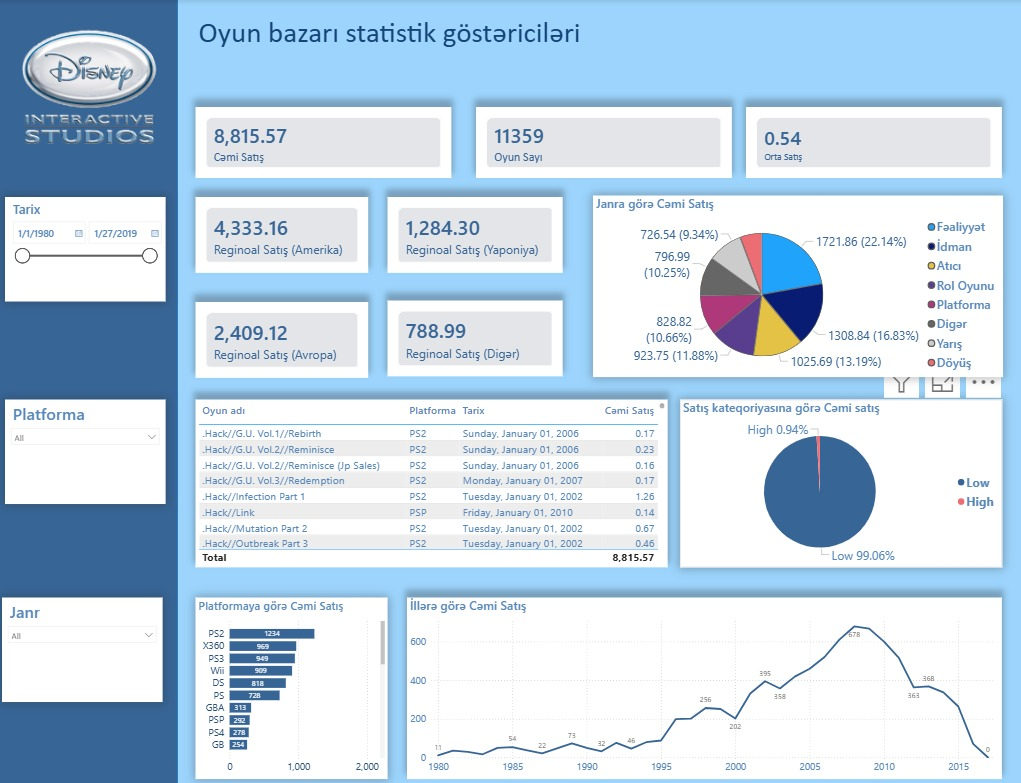

What the dashboard file says about the page in this screenshot:
{"tool":"powerbi","page":{"name":"PAGE 1","canvas":[1700,1300],"ordinal":0},"visuals":[{"type":"shape","box":[0,0,295,1300],"z":0},{"type":"lineChart","title":"İllərə görə Cəmi Satış","fields":{"Category":["Sheet 2.Tarix.Variation.Date Hierarchy.Year","Sheet 2.Tarix.Variation.Date Hierarchy.Quarter","Sheet 2.Tarix.Variation.Date Hierarchy.Month","Sheet 2.Tarix.Variation.Date Hierarchy.Day"],"Y":["Sheet 2.Cəmi Satış"]},"box":[675,987.5,982.5,300],"z":1000},{"type":"barChart","title":"Platformaya görə Cəmi Satış","fields":{"Category":["Sheet 2.Platforma"],"Y":["Sheet 2.Cəmi Satış"]},"box":[325,987.5,317.5,300],"z":2000},{"type":"pieChart","title":"Satış kateqoriyasına görə Cəmi satış","fields":{"Category":["Sheet 2.Satış kateqoriyası"],"Y":["Sheet 2.Cəmi Satış"]},"box":[1125,662.5,532.5,277.5],"z":3000},{"type":"pieChart","title":"Janra görə Cəmi Satış","fields":{"Category":["Sheet 2.Janr"],"Y":["Sheet 2.Cəmi Satış"]},"box":[980,325,677.5,300],"z":4000},{"type":"tableEx","fields":{"Values":["Sheet 2.Oyun adı","Sheet 2.Platforma","Sheet 2.Tarix","Sheet 2.Cəmi Satış"]},"box":[325,662.5,780,277.5],"z":5000},{"type":"slicer","fields":{"Values":["Sheet 2.Tarix"]},"box":[10,327.5,265,172.5],"z":6000},{"type":"cardVisual","fields":{"Data":["Sheet 2.Reginoal Satış (Yaponiya)"]},"box":[642,327.4,289,125.3],"z":7000},{"type":"cardVisual","fields":{"Data":["Sheet 2.Cəmi Satış"]},"box":[325,177.5,422.5,117.5],"z":8000},{"type":"textbox","box":[325,20,747.5,127.5],"z":9000},{"type":"cardVisual","fields":{"Data":["Sheet 2.Reginoal Satış (Amerika)"]},"box":[325,327.5,285,125],"z":10000},{"type":"cardVisual","fields":{"Data":["Sheet 2.Reginoal Satış (Avropa)"]},"box":[325,500,285,125],"z":11000},{"type":"cardVisual","fields":{"Data":["Sheet 2.Reginoal Satış (Digər)"]},"box":[642,498.8,289,125.3],"z":12000},{"type":"image","box":[25,0,250,295],"z":13000},{"type":"slicer","fields":{"Values":["Sheet 2.Janr"]},"box":[5,987.5,265,172.5],"z":14000},{"type":"cardVisual","fields":{"Data":["Sheet 2.Oyun Sayı"]},"box":[787.5,177.5,422.5,117.5],"z":15000},{"type":"cardVisual","fields":{"Data":["Sheet 2.Orta Satış"]},"box":[1235,177.5,422.5,117.5],"z":16000},{"type":"slicer","fields":{"Values":["Sheet 2.Platforma"]},"box":[10,662.5,265,172.5],"z":17000}]}

Visuals, with their boxes in screenshot pixels (x1, y1, x2, y2), scaled from the page's 1700x1300 canvas onto the 1021x783 screenshot:
shape: locate(0, 0, 177, 782)
"İllərə görə Cəmi Satış" lineChart: locate(405, 595, 995, 775)
"Platformaya görə Cəmi Satış" barChart: locate(195, 595, 386, 775)
"Satış kateqoriyasına görə Cəmi satış" pieChart: locate(676, 399, 995, 566)
"Janra görə Cəmi Satış" pieChart: locate(589, 196, 995, 376)
tableEx - Sheet 2.Oyun adı x Sheet 2.Platforma: locate(195, 399, 664, 566)
slicer - Sheet 2.Tarix: locate(6, 197, 165, 301)
cardVisual - Sheet 2.Reginoal Satış (Yaponiya): locate(386, 197, 559, 273)
cardVisual - Sheet 2.Cəmi Satış: locate(195, 107, 449, 178)
textbox: locate(195, 12, 644, 89)
cardVisual - Sheet 2.Reginoal Satış (Amerika): locate(195, 197, 366, 273)
cardVisual - Sheet 2.Reginoal Satış (Avropa): locate(195, 301, 366, 376)
cardVisual - Sheet 2.Reginoal Satış (Digər): locate(386, 300, 559, 376)
image: locate(15, 0, 165, 178)
slicer - Sheet 2.Janr: locate(3, 595, 162, 699)
cardVisual - Sheet 2.Oyun Sayı: locate(473, 107, 727, 178)
cardVisual - Sheet 2.Orta Satış: locate(742, 107, 995, 178)
slicer - Sheet 2.Platforma: locate(6, 399, 165, 503)
